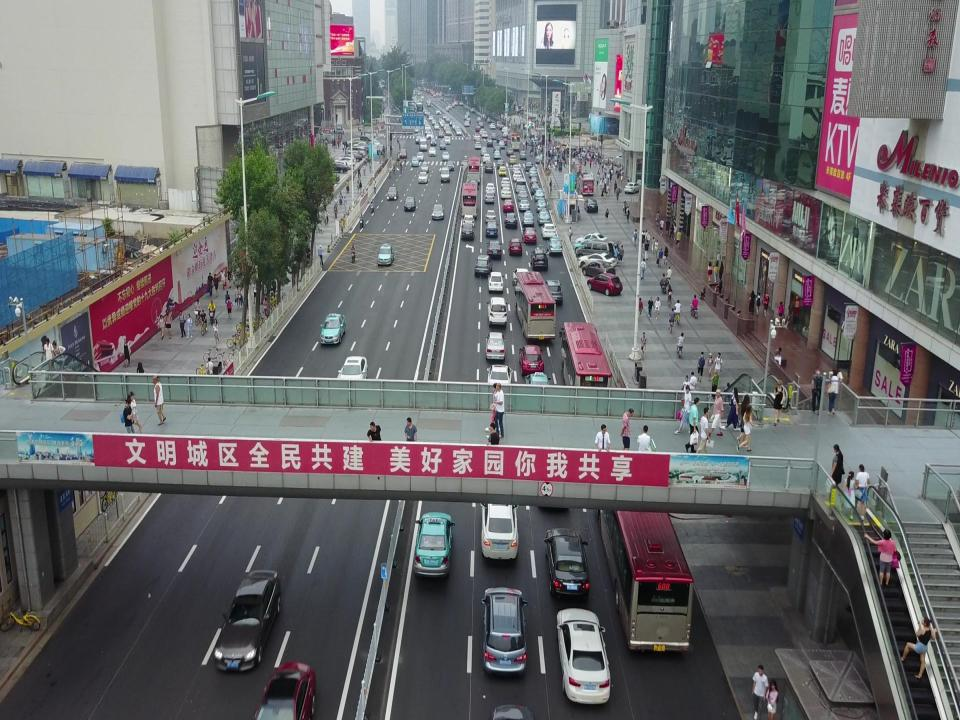bus: (590, 475, 696, 658), (558, 321, 612, 404), (512, 270, 556, 340), (461, 181, 479, 218), (467, 156, 481, 185), (506, 132, 520, 150), (407, 101, 417, 116), (416, 102, 424, 115)
car: (213, 567, 283, 676), (554, 606, 612, 707), (480, 586, 528, 676), (251, 658, 317, 720), (543, 526, 591, 603), (413, 511, 456, 580), (479, 487, 519, 561), (336, 356, 368, 394), (486, 363, 514, 396), (587, 272, 623, 297), (524, 371, 551, 404), (320, 312, 346, 346), (518, 345, 544, 378), (577, 251, 617, 270), (483, 332, 507, 362), (581, 260, 617, 280), (575, 232, 609, 249), (572, 240, 606, 256), (543, 279, 563, 306), (474, 255, 493, 278), (512, 267, 530, 290), (377, 244, 395, 266), (530, 248, 548, 270), (487, 271, 505, 293), (710, 368, 720, 401), (195, 360, 213, 378), (546, 236, 563, 255), (507, 237, 523, 257), (486, 240, 502, 260), (460, 223, 476, 240), (503, 212, 518, 228), (522, 227, 537, 243), (541, 223, 556, 239), (521, 210, 535, 227), (536, 209, 550, 226), (624, 181, 642, 194), (431, 203, 445, 219), (485, 220, 499, 236), (584, 198, 598, 213), (328, 163, 348, 173), (462, 214, 476, 228), (404, 196, 416, 211), (338, 156, 356, 166), (485, 209, 497, 224), (535, 198, 547, 213), (335, 160, 354, 169), (502, 198, 514, 212), (518, 199, 530, 213), (534, 188, 545, 203), (331, 161, 349, 170), (387, 186, 398, 200), (340, 154, 357, 163), (345, 138, 361, 147), (500, 187, 512, 199), (516, 190, 528, 202), (485, 182, 496, 195), (530, 184, 541, 196), (484, 191, 494, 204), (346, 153, 362, 161), (418, 172, 428, 184), (484, 160, 494, 172), (528, 166, 538, 178), (512, 170, 522, 182), (500, 176, 510, 188), (359, 135, 373, 143), (445, 160, 455, 171), (524, 161, 534, 172), (497, 166, 507, 176), (511, 164, 521, 174), (529, 177, 539, 187), (613, 245, 618, 265), (420, 161, 429, 172), (508, 154, 517, 164), (496, 160, 505, 170), (369, 140, 381, 147), (442, 150, 450, 160), (416, 151, 424, 161), (410, 156, 418, 166), (480, 146, 488, 156), (519, 150, 527, 160), (493, 150, 501, 160), (482, 154, 490, 164), (444, 127, 452, 136), (428, 147, 436, 156), (399, 149, 407, 158), (497, 140, 505, 149), (493, 145, 501, 154), (506, 147, 514, 156), (501, 126, 511, 133), (455, 128, 463, 136), (474, 142, 482, 150), (486, 140, 494, 148), (444, 135, 450, 145), (488, 122, 496, 129), (474, 137, 482, 144), (490, 132, 497, 140), (452, 121, 458, 130), (430, 137, 436, 146), (474, 133, 480, 142), (497, 134, 503, 143), (481, 131, 488, 138), (501, 138, 508, 145), (426, 131, 432, 139), (416, 135, 422, 143), (502, 131, 510, 137), (359, 217, 363, 228), (465, 117, 471, 124), (464, 120, 470, 127), (446, 103, 452, 110), (435, 108, 441, 115), (428, 115, 434, 122), (445, 116, 451, 123), (440, 121, 446, 128), (444, 124, 450, 131), (449, 119, 455, 126), (438, 131, 444, 138), (475, 116, 481, 123), (478, 121, 484, 128), (483, 114, 489, 121), (486, 116, 493, 122), (498, 123, 504, 130), (475, 125, 481, 132), (470, 107, 476, 113), (434, 123, 440, 129), (431, 119, 437, 125), (442, 114, 448, 120), (424, 128, 430, 134), (414, 127, 420, 133), (479, 129, 485, 135), (424, 109, 428, 116), (426, 111, 430, 118), (459, 101, 464, 106), (466, 110, 470, 116), (464, 114, 468, 120), (424, 125, 430, 129), (454, 101, 458, 106), (451, 103, 455, 108), (445, 106, 449, 111), (427, 103, 431, 106)
van: (576, 240, 622, 261), (486, 296, 508, 328), (347, 146, 365, 156), (440, 166, 450, 183), (515, 178, 526, 193), (419, 137, 428, 151), (439, 140, 446, 150), (496, 120, 501, 128)
